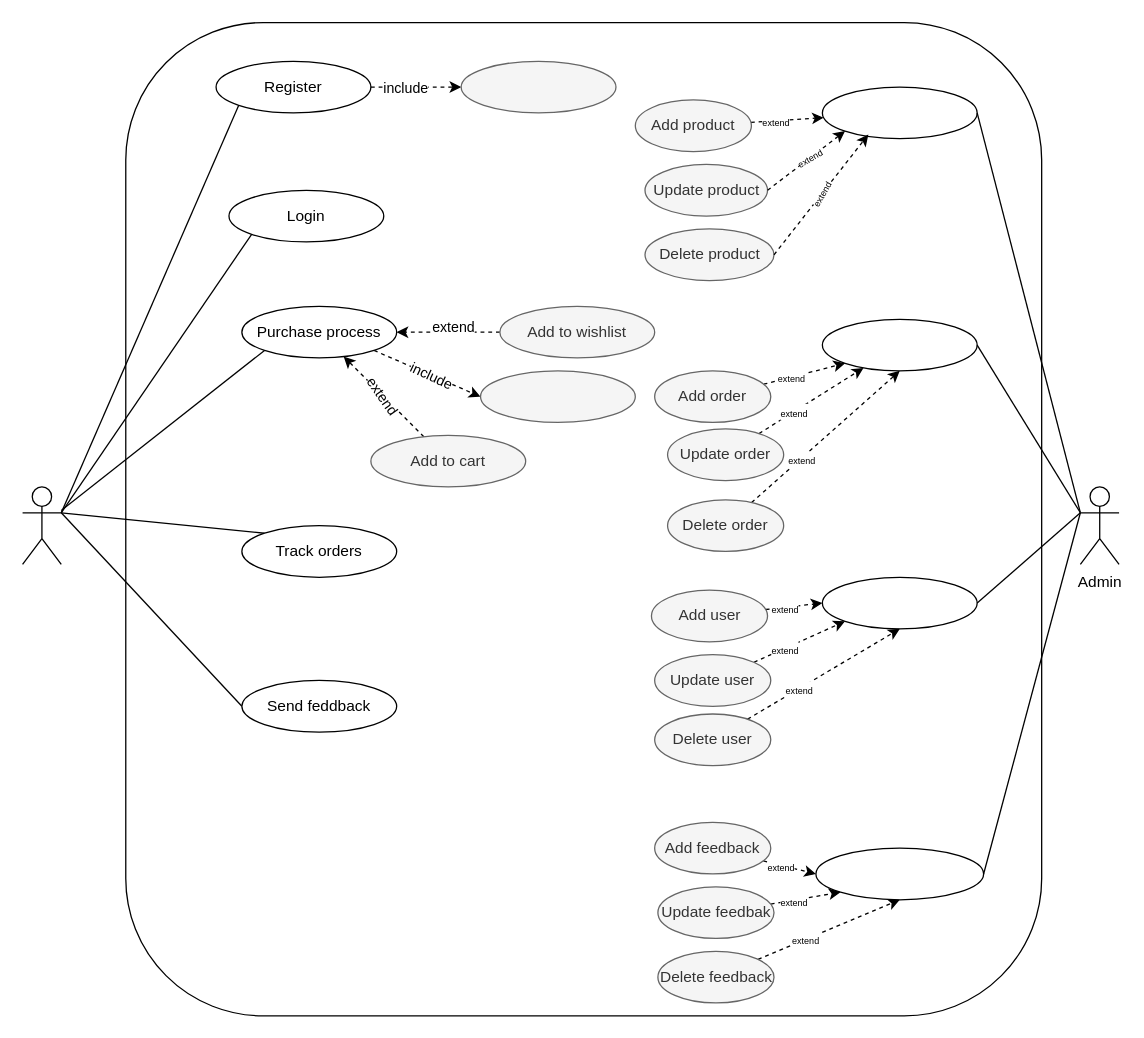
The diagram is 1144 pixels wide and 1038 high, and some of its shapes have lost their labels. The shapes that lost their labels are listed below. From the top down, each one's centre as x and y in pixels, then its label:
At [538,86]: "Accept terms & conditions".
At [899,112]: "Product management".
At [899,344]: "Order management".
At [557,396]: "Checkout".
At [41,525]: "User".
At [899,602]: "User management".
At [899,873]: "Feedback management".
